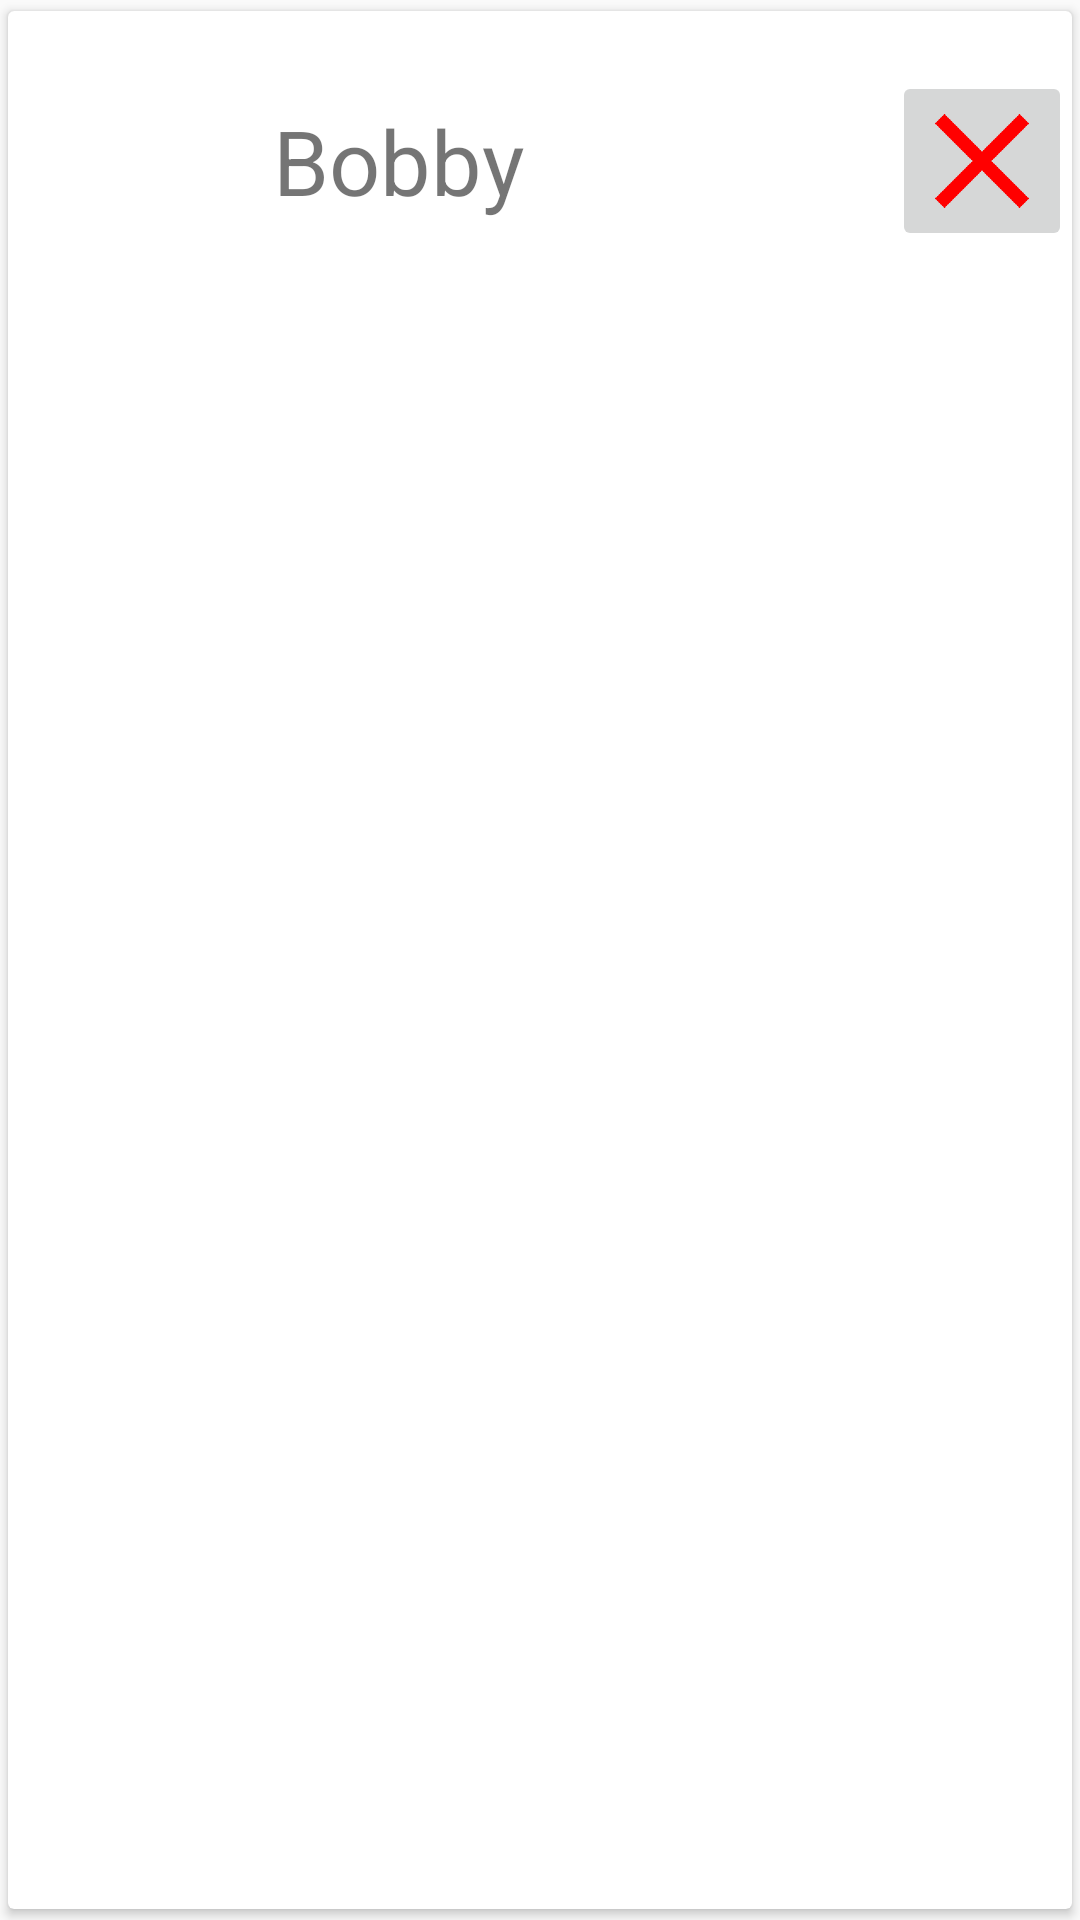

Where to tap for icons on this 1080×1920 app screen, as point (x, y):
delete: point (982, 161)
